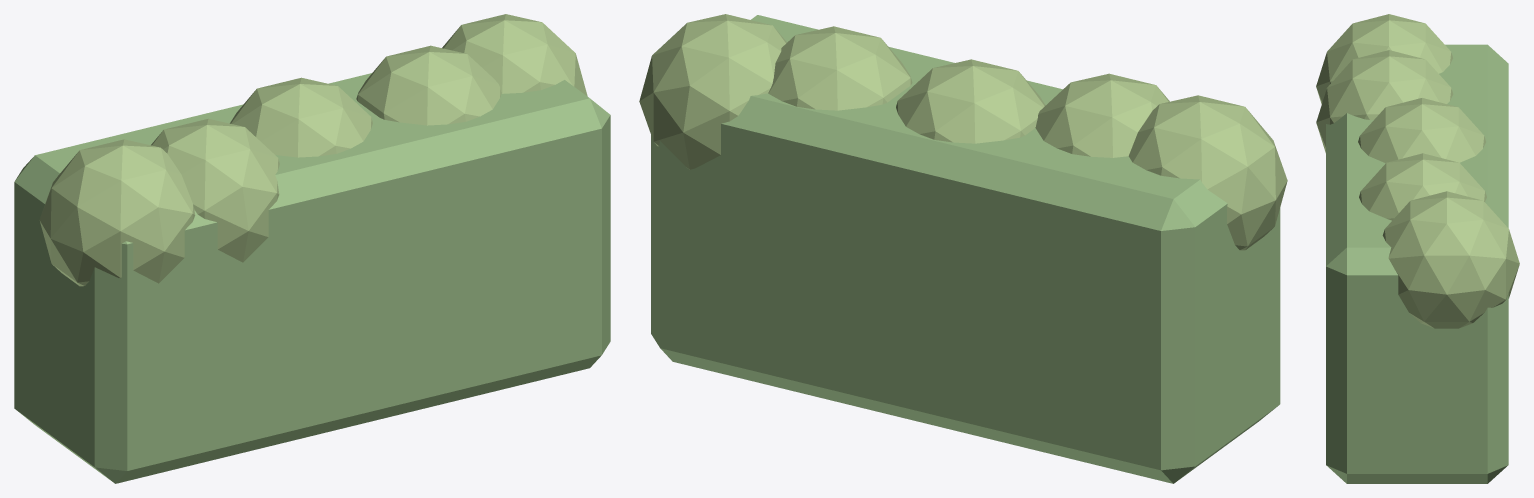
File: hedge.glb
3 views of the same model, side by side, from view 1: azimuth 30°, elevation 25°; view 2: azimuth 150°, elevation 25°; view 3: azimuth 270°, elevation 25° (orthographic). The views are drawn at different scales.
Visible parts, largest first — view 1: hedge_leaf, hedge_leaf2; view 2: hedge_leaf, hedge_leaf2; view 3: hedge_leaf, hedge_leaf2.
Part boxes in pixels (x1=…): hedge_leaf: x1=14, y1=73, x2=610, y2=483; hedge_leaf2: x1=39, y1=14, x2=587, y2=286; hedge_leaf: x1=651, y1=15, x2=1280, y2=483; hedge_leaf2: x1=639, y1=14, x2=1287, y2=250; hedge_leaf: x1=1326, y1=44, x2=1508, y2=483; hedge_leaf2: x1=1316, y1=14, x2=1519, y2=328.
Bounding box in the file's own units: 2.17 × 1.16 × 0.7815.
